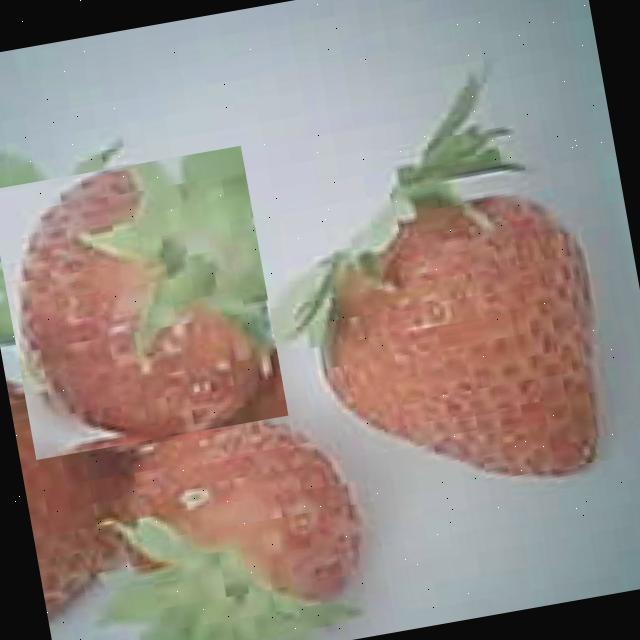ripe: (299, 180, 619, 510), (0, 144, 288, 459)
